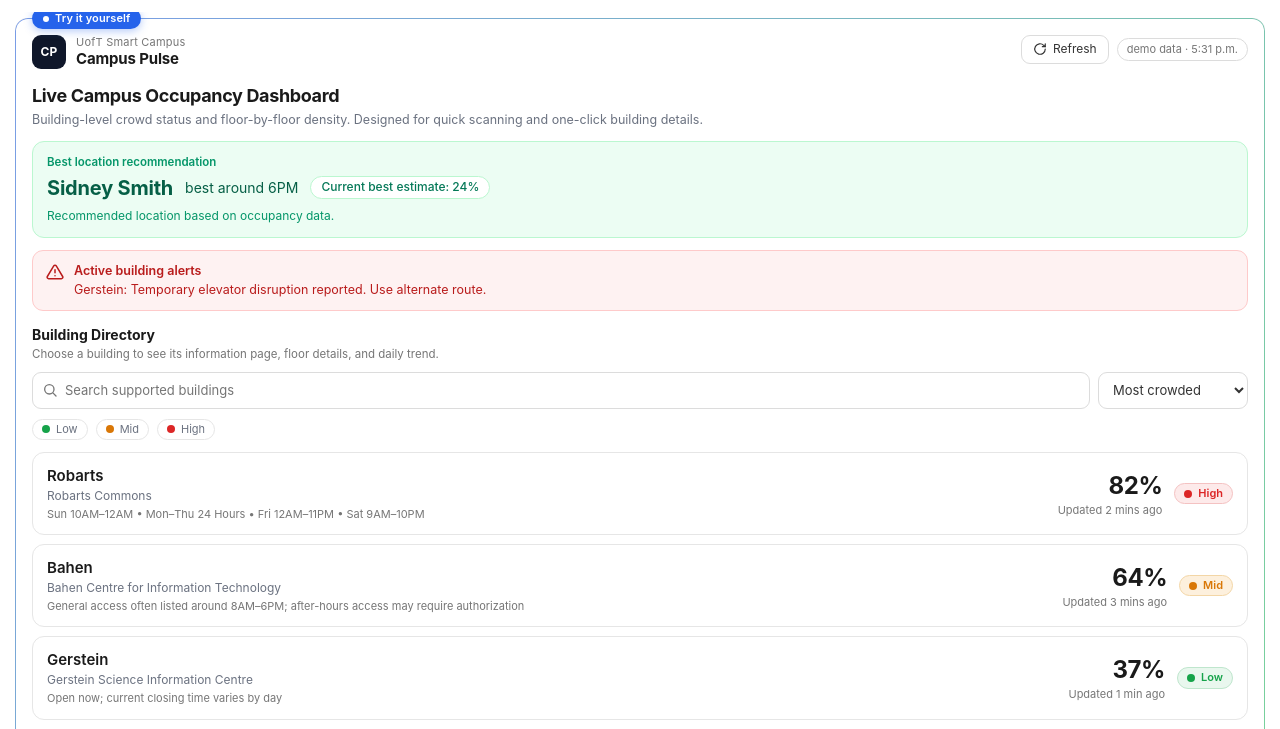
Scenario: search filters the directory and shows an empty state
The width and height of the screenshot is (1280, 729).
Type "bahen" into the search field labelled "Search supported buildings".
click(561, 390); type("bahen")  # box x1=32 y1=372 x2=1090 y2=409
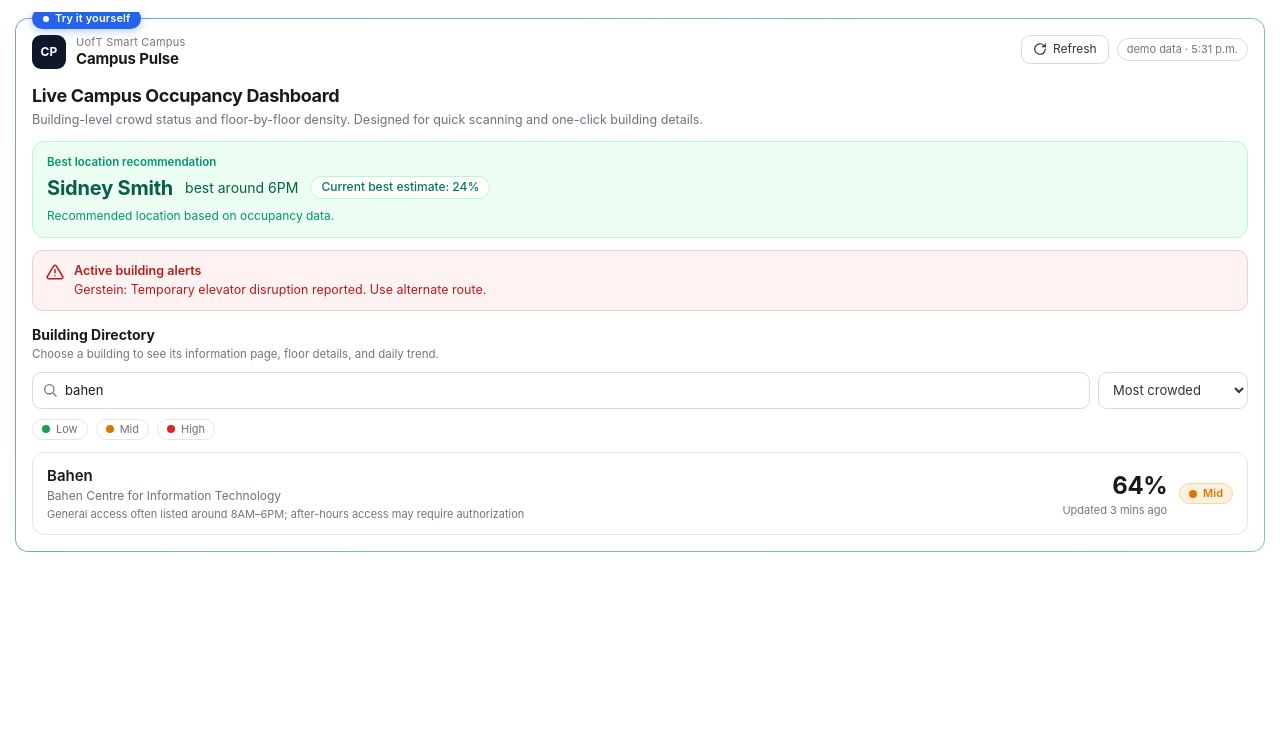
Expected: the button "Bahen" is shown, x1=32 y1=452 x2=1248 y2=535
Result: the button "Robarts" is gone
Replace the text in the search field named "Search supported buildings" with "zzz" at (561, 390), box x1=32 y1=372 x2=1090 y2=409
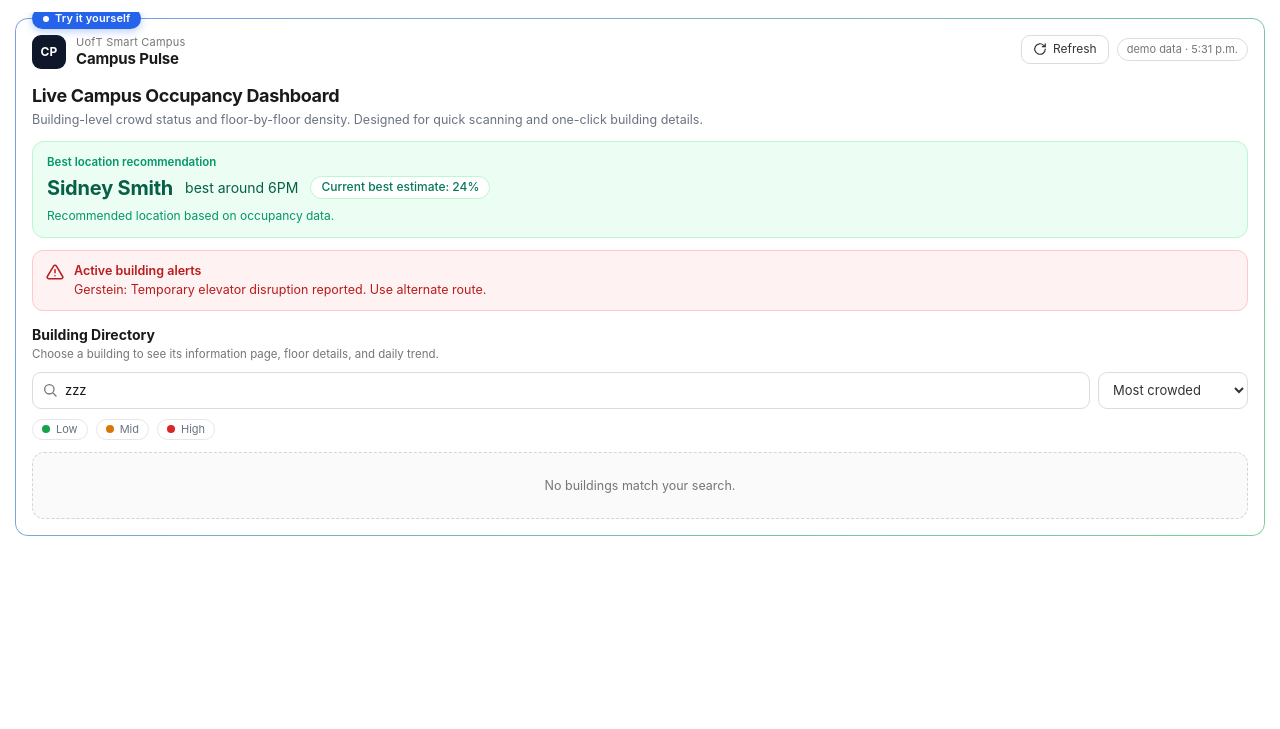
Result: the text "No buildings match your search." is shown at x1=32 y1=452 x2=1248 y2=519
